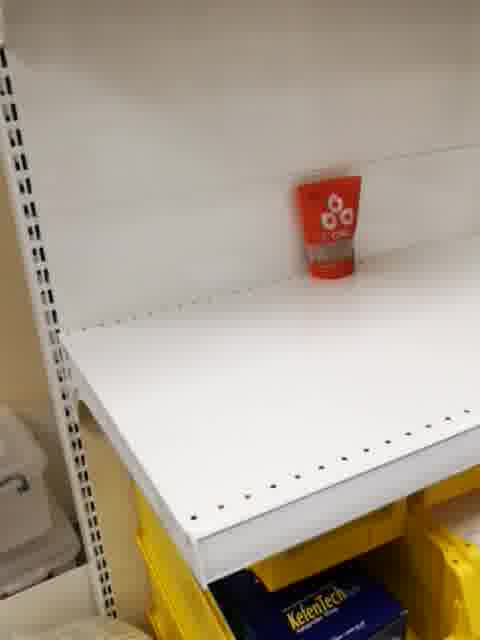whitechia: (291, 171, 366, 280)
